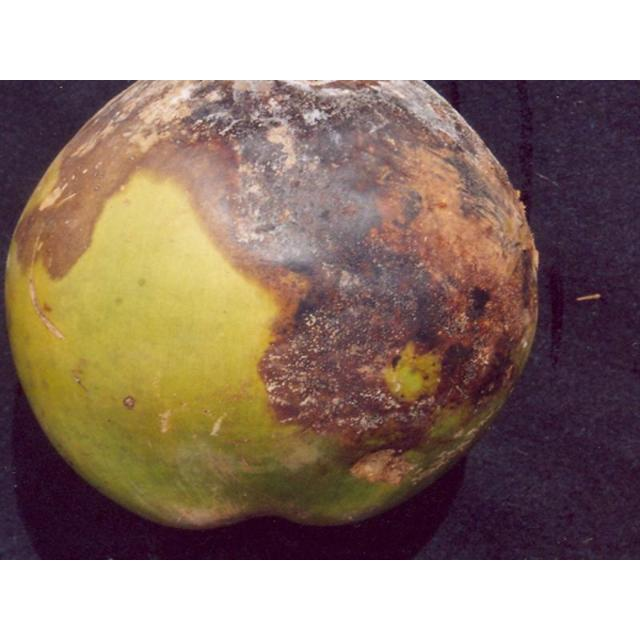damaged: (3, 80, 539, 532)
